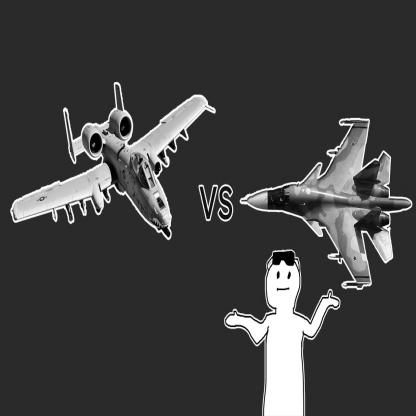A10: (12, 85, 216, 239)
Su34: (242, 121, 412, 289)
